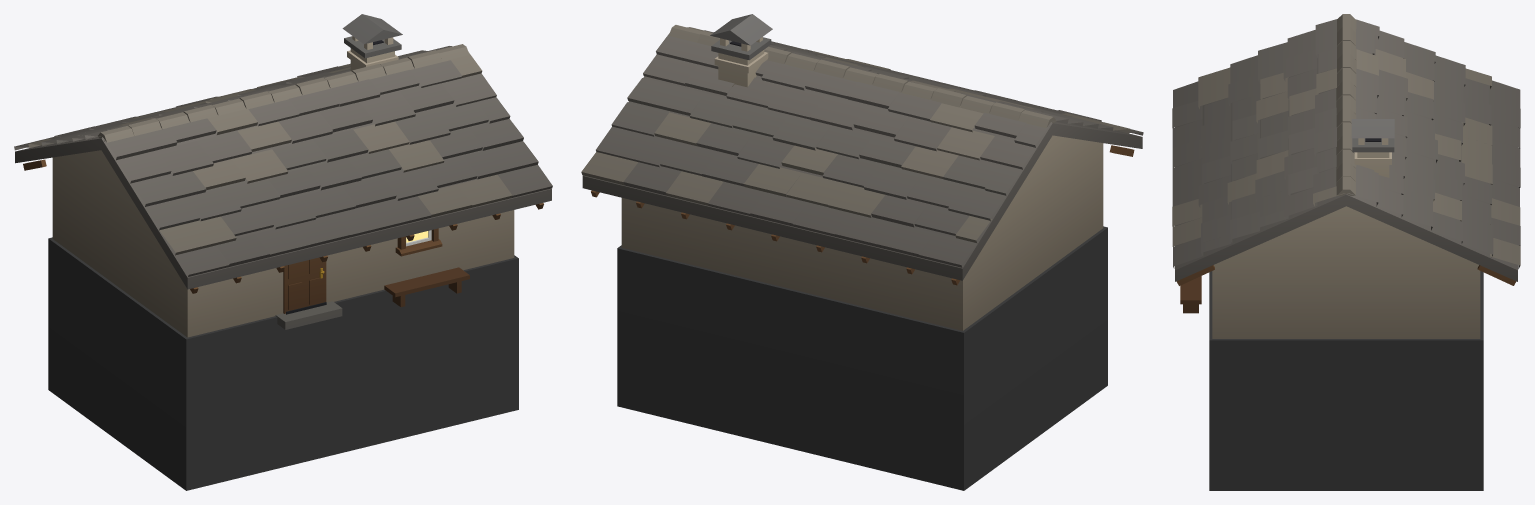
The model's file is Alpage_Hut.fbx.
3 views of the same model, side by side, from view 1: azimuth 30°, elevation 25°; view 2: azimuth 150°, elevation 25°; view 3: azimuth 270°, elevation 25° (orthographic). The views are drawn at different scales.
Visible parts, largest first — view 1: Alpage_Hut_LOD0; view 2: Alpage_Hut_LOD0; view 3: Alpage_Hut_LOD0.
Boxes of the visible parts, x1,y1,x2,y2 form: Alpage_Hut_LOD0: (14, 14, 552, 490); Alpage_Hut_LOD0: (581, 14, 1143, 490); Alpage_Hut_LOD0: (1172, 14, 1520, 490).
Size of what is drawn, in the model's own units: 7.8 by 7.02 by 6.5.
Materials: 1 (1 with a texture image).
